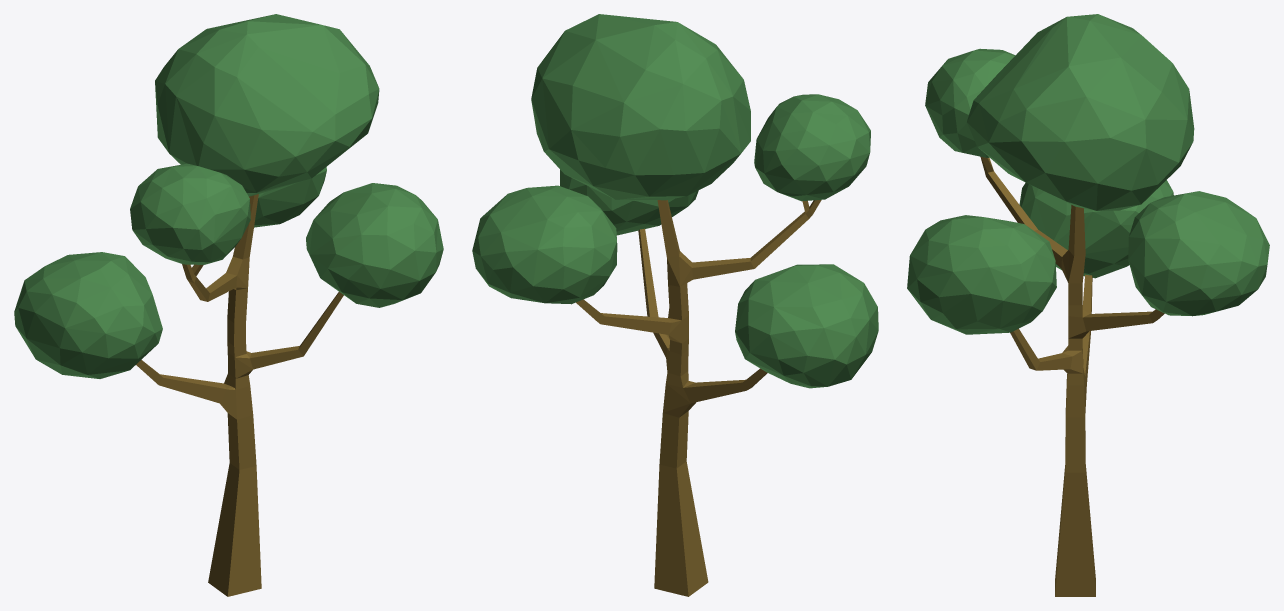
Rendered from TopiaryTree.fbx.
3 renders of one model, left to right at view 1: azimuth 30°, elevation 25°; view 2: azimuth 150°, elevation 25°; view 3: azimuth 270°, elevation 25°, orthographic. The views are drawn at different scales.
Visible parts, largest first — view 1: TopiaryTree; view 2: TopiaryTree; view 3: TopiaryTree.
Boxes of the visible parts, <box> form: TopiaryTree: <box>14,14,443,596</box>; TopiaryTree: <box>472,14,878,596</box>; TopiaryTree: <box>907,14,1269,596</box>.
Bounding box in the file's own units: 1139 × 1730 × 985.
